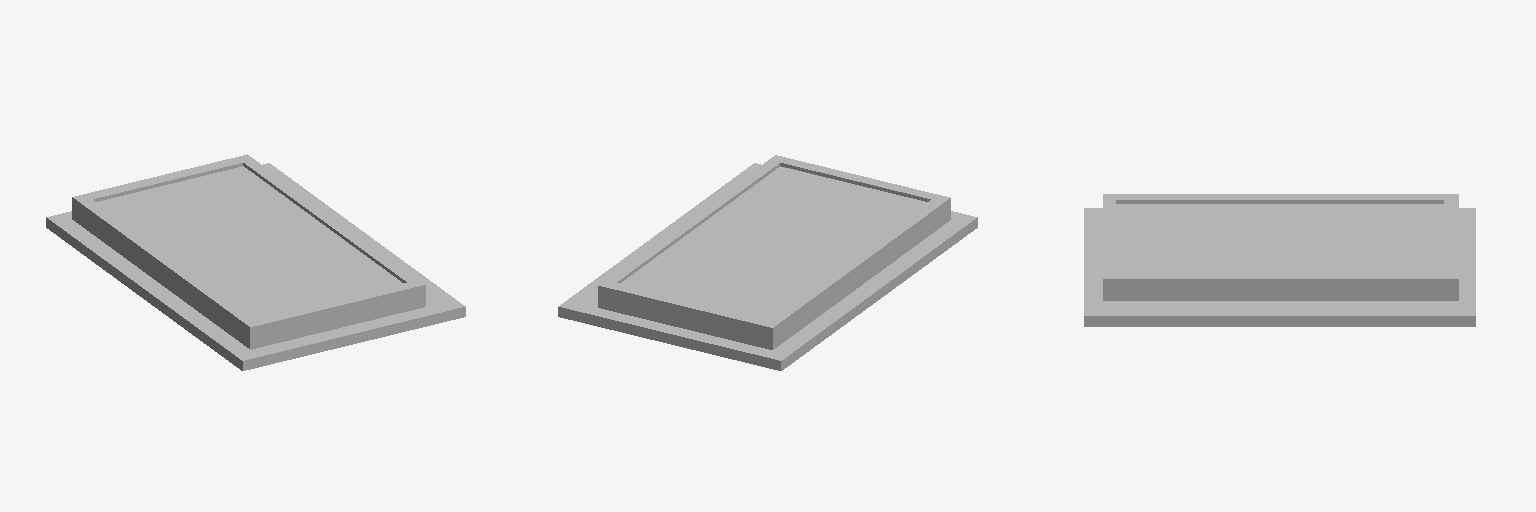
Rendered from stage.obj.
3 renders of one model, left to right at view 1: azimuth 30°, elevation 25°; view 2: azimuth 150°, elevation 25°; view 3: azimuth 270°, elevation 25°, orthographic.
Parts seen in each view (by area): view 1: Cube.001; view 2: Cube.001; view 3: Cube.001.
Boxes of the visible parts, <box> form: Cube.001: <box>46,154,465,370</box>; Cube.001: <box>558,155,977,370</box>; Cube.001: <box>1084,194,1475,326</box>.
Bounding box in the file's own units: 21.29 × 2.99 × 32.45.